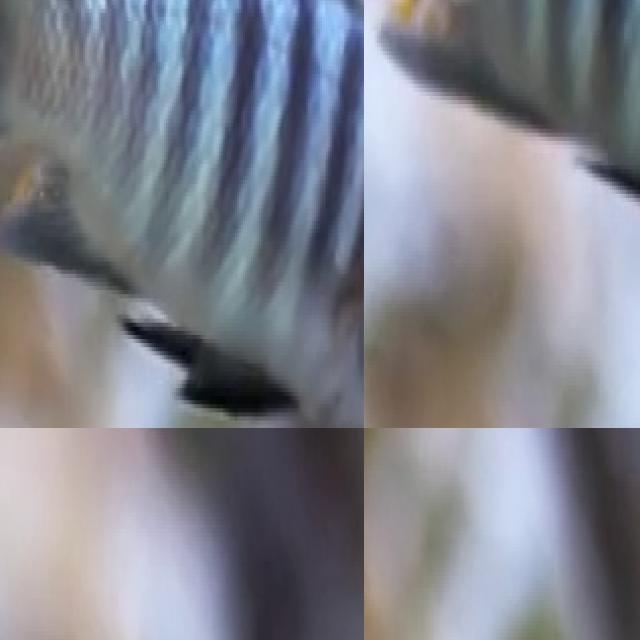fish: (0, 0, 364, 428), (364, 0, 640, 283)
